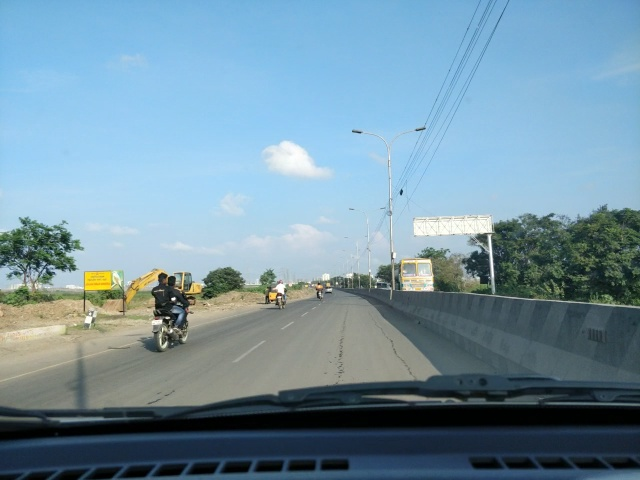motorbike: (151, 271, 194, 350), (272, 279, 291, 310), (313, 280, 329, 301)
truck: (399, 259, 435, 295)
